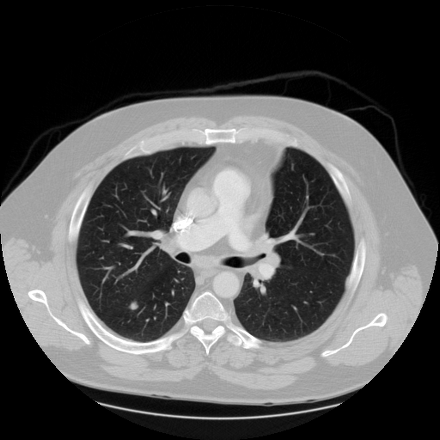nodule: (129, 302, 137, 310)
